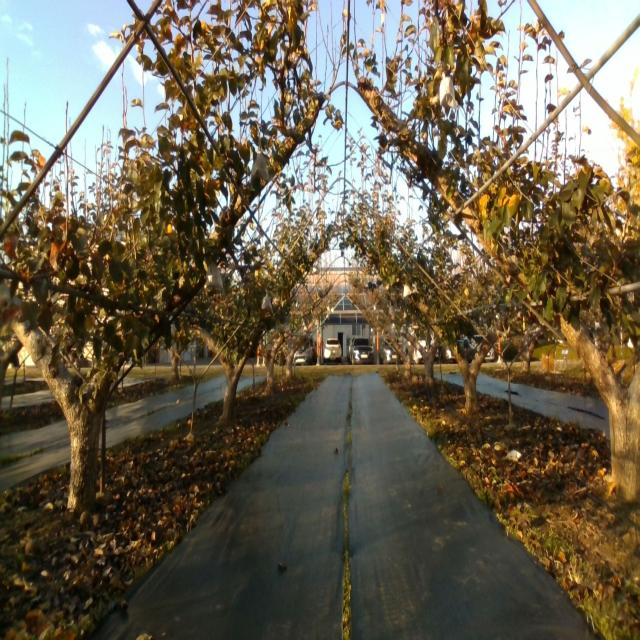pearbags: (439, 71, 457, 110), (204, 262, 223, 291), (251, 152, 269, 182), (260, 292, 272, 310)
